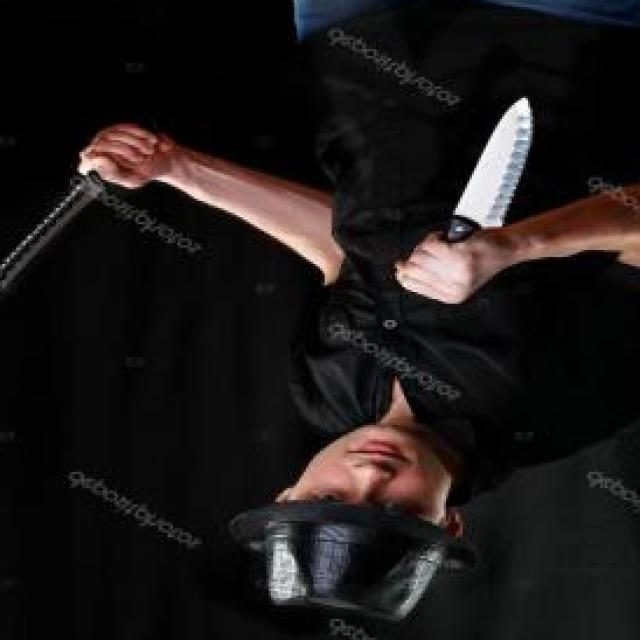knife: (390, 90, 549, 311)
